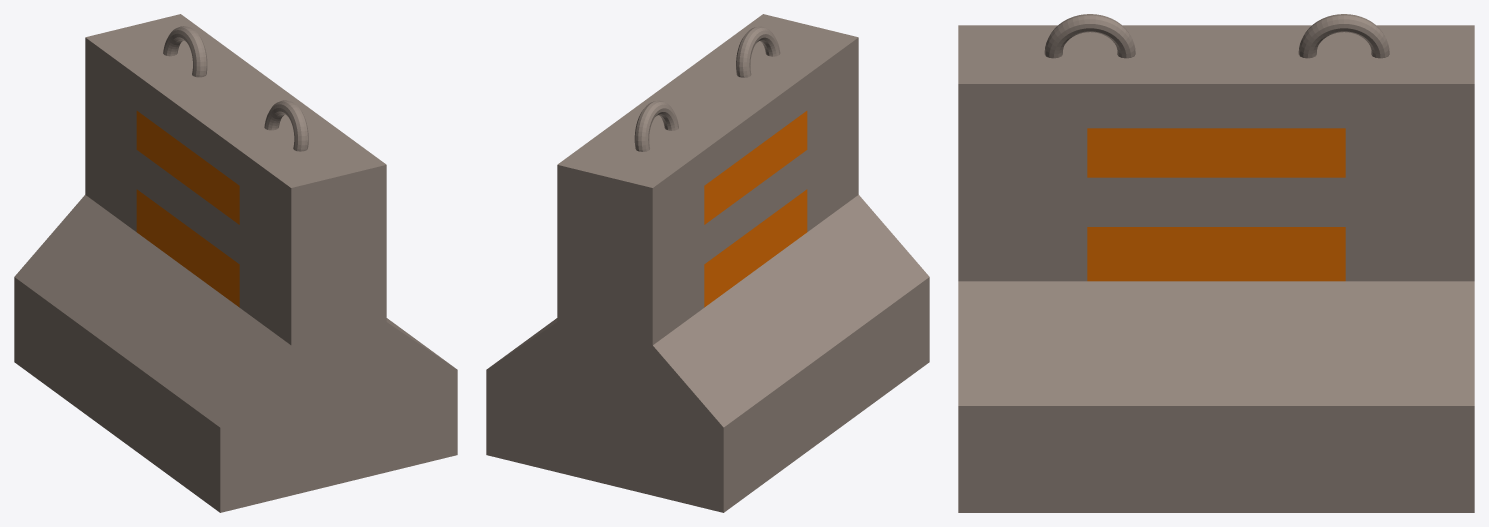
The model's file is Thing.fbx.
The picture shows the model from 3 angles, left to right: view 1: azimuth 30°, elevation 25°; view 2: azimuth 150°, elevation 25°; view 3: azimuth 270°, elevation 25°; orthographic projection. The views are drawn at different scales.
Parts seen in each view (by area): view 1: Plane; view 2: Plane; view 3: Plane.
Part boxes in pixels (x1=…): Plane: x1=14, y1=14, x2=457, y2=512; Plane: x1=486, y1=14, x2=929, y2=512; Plane: x1=958, y1=14, x2=1474, y2=512.
Size of the model in its own units: 268 by 368 by 403.
